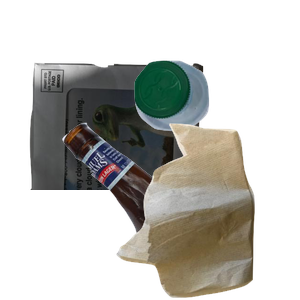glass: (60, 120, 300, 300)
paper: (27, 60, 223, 240)
plastic: (132, 58, 300, 182)
trash: (114, 121, 300, 300)
